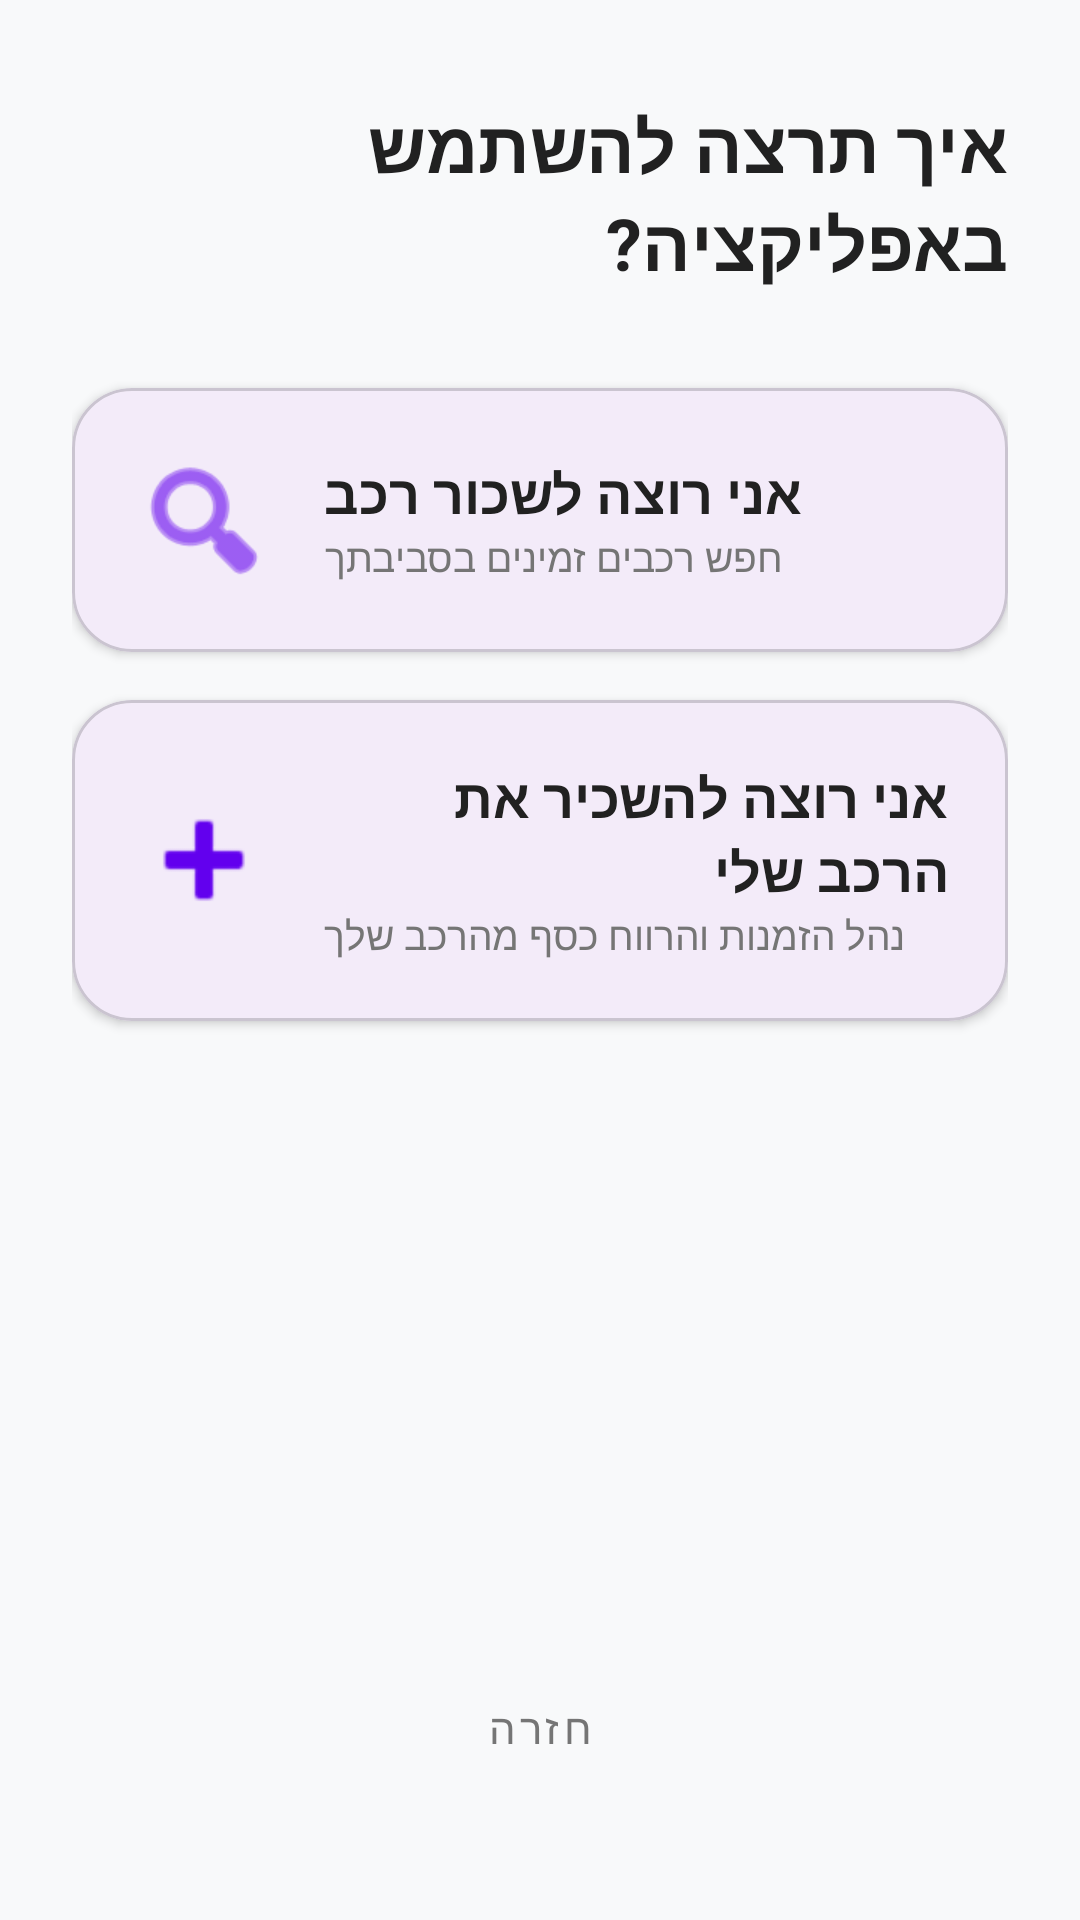

Icons on this 1080px×1920px Android screen, each with the point to tap as point (x, y):
add: point (204, 860)
search: point (204, 520)
